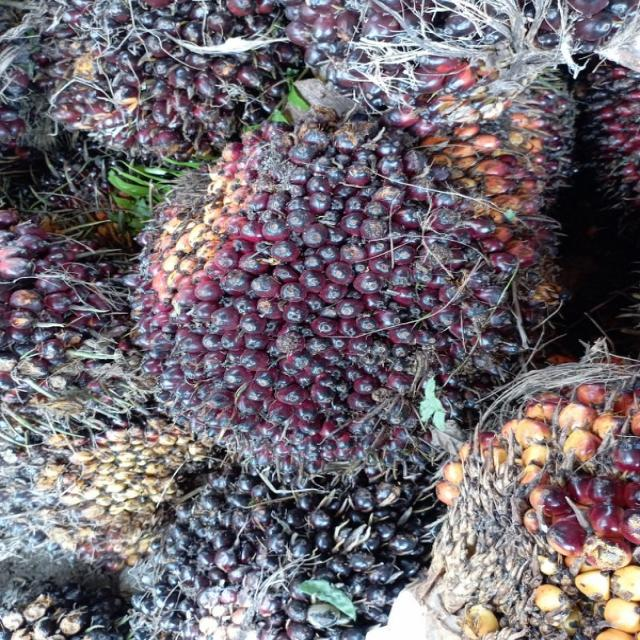fraksi 00: (133, 460, 422, 640)
fraksi 1: (132, 124, 520, 487), (40, 0, 290, 161)
